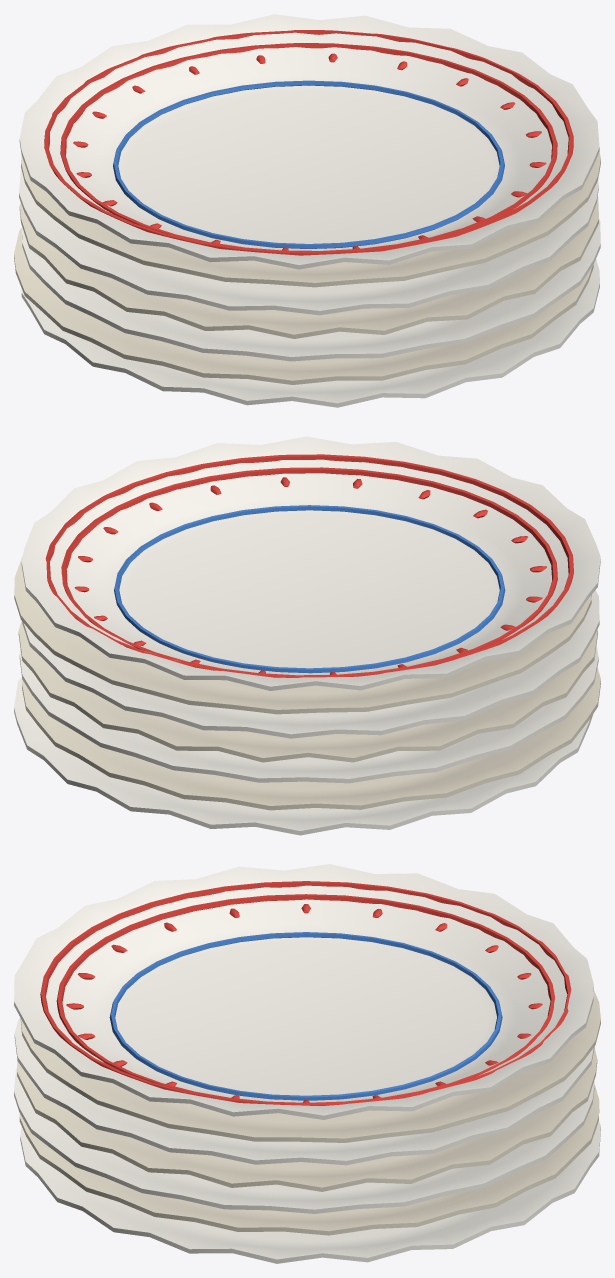
Rendered from paper_plates_stack.glb.
3 renders of one model, top to bottom at view 1: azimuth 30°, elevation 25°; view 2: azimuth 150°, elevation 25°; view 3: azimuth 270°, elevation 25°, orthographic.
Parts seen in each view (by area): view 1: PaperPlatesStack; view 2: PaperPlatesStack; view 3: PaperPlatesStack.
Part boxes in pixels (<box>): PaperPlatesStack: <box>14,14,600,407</box>; PaperPlatesStack: <box>14,436,600,835</box>; PaperPlatesStack: <box>14,864,600,1263</box>.
Size of the model in its own units: 6.08 by 2.05 by 6.06.
